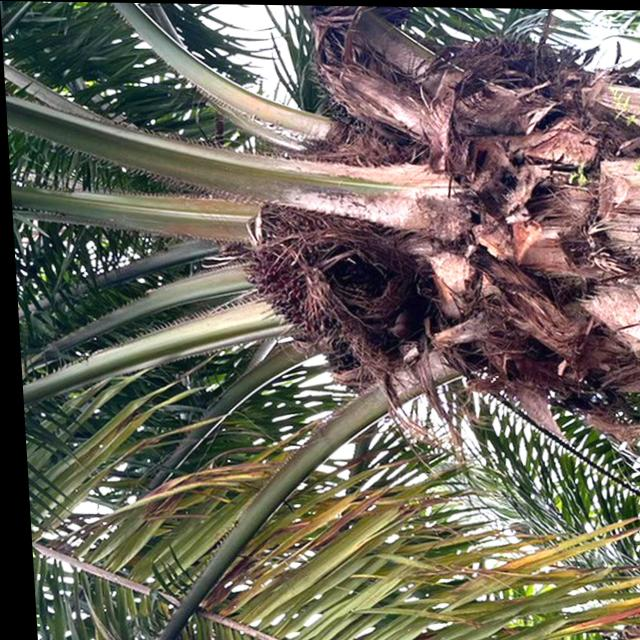ripe: (229, 206, 325, 343)
